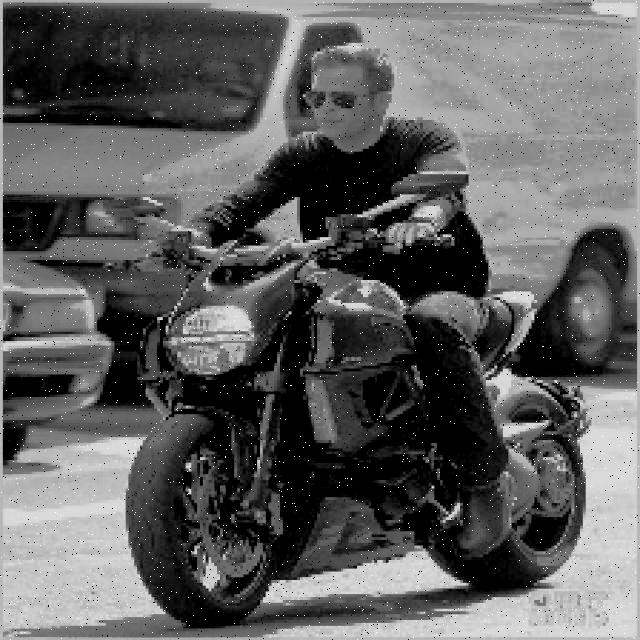Bike: (126, 245, 601, 632)
